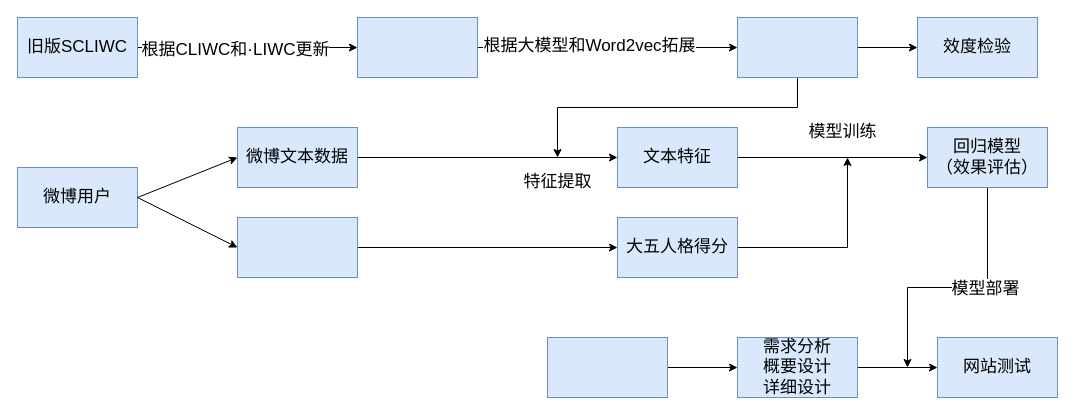
Some shapes in this 1075 by 415 pixel diagram are drawn without their labels. Here are the shapes that lost their labels. From the top down, the centre of each, then its label:
At point 417,47: "SCLIWC(temp)".
At point 797,47: "SCLIWC2024".
At point 297,247: "大五人格量表数据".
At point 607,367: "网站构建".
